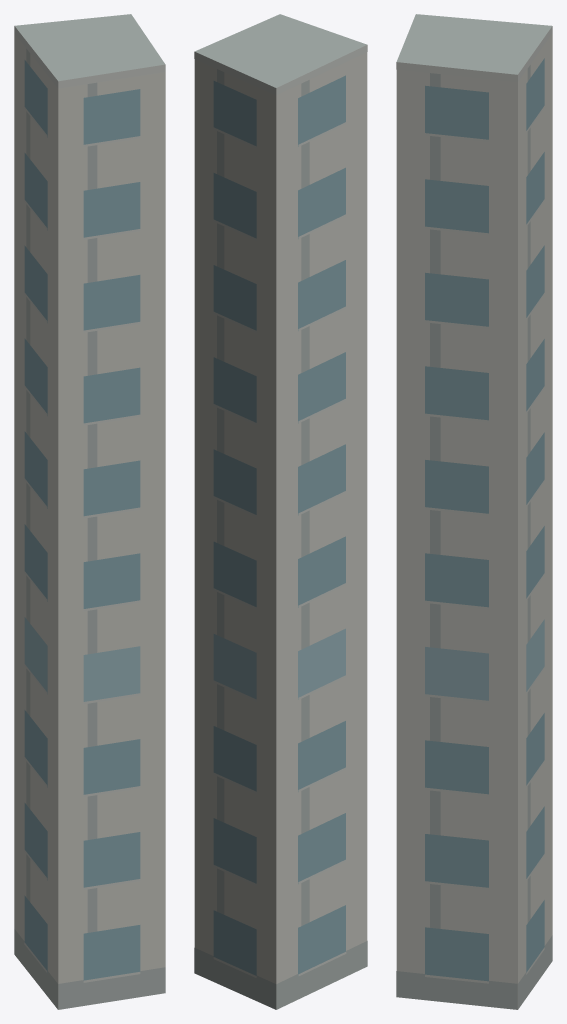
File: survey-upis-32900492.glb
3 views of the same model, side by side, from view 1: azimuth 30°, elevation 25°; view 2: azimuth 150°, elevation 25°; view 3: azimuth 270°, elevation 25° (orthographic).
Parts seen in each view (by area): view 1: survey-upis-32900492.tmp; view 2: survey-upis-32900492.tmp; view 3: survey-upis-32900492.tmp.
Part boxes in pixels (x1,y1,x2,y2): survey-upis-32900492.tmp: (14, 14, 165, 1009); survey-upis-32900492.tmp: (194, 14, 367, 1009); survey-upis-32900492.tmp: (396, 14, 552, 1009).
Size of the model in its own units: 4.26 by 30.5 by 4.62.
